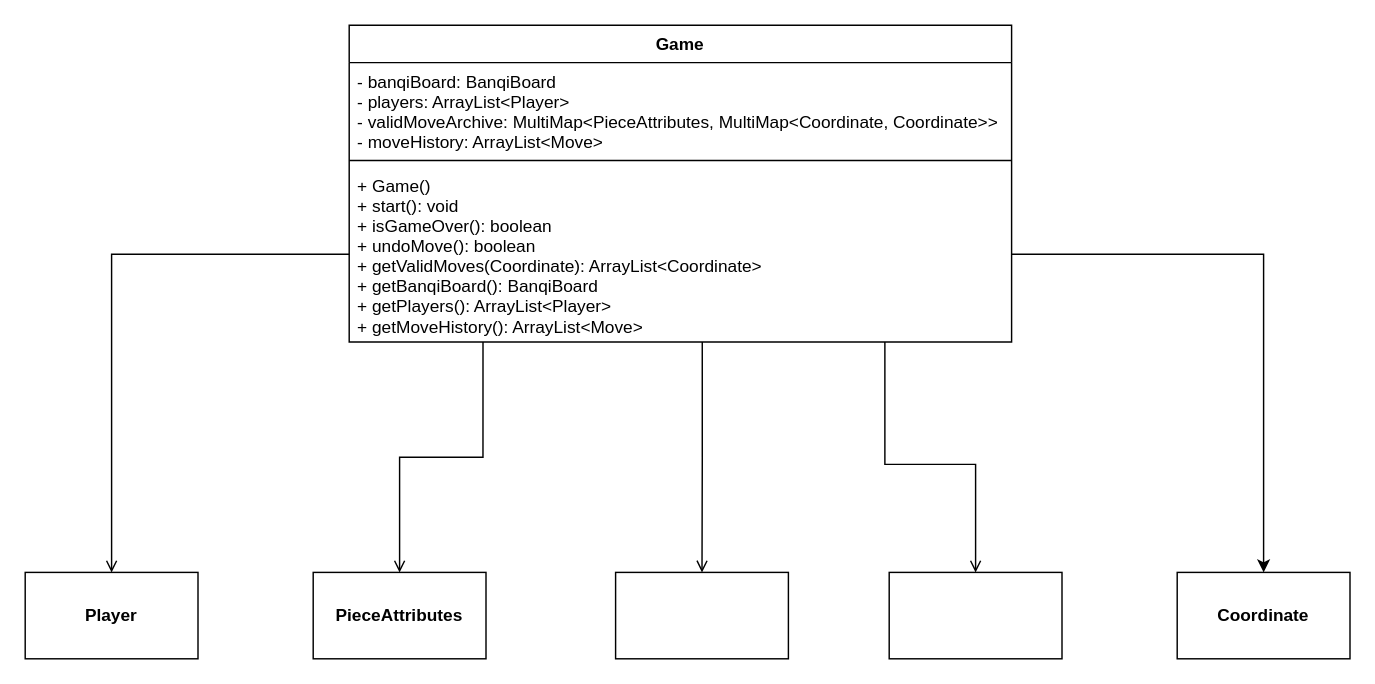
This 1375x684 diagram has some shape labels left out. Here are the shapes that lost their labels. From the top down, the centre of each, then its label:
At (x=701, y=615): "Move".
At (x=975, y=615): "BanqiBoard".
